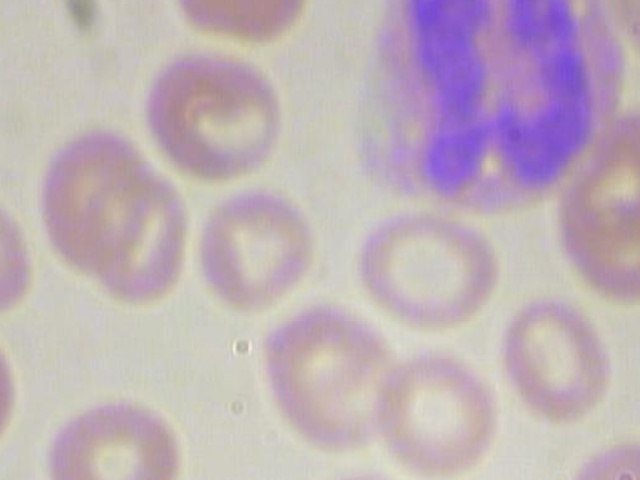RBC: (253, 297, 409, 458), (135, 46, 305, 187), (339, 207, 501, 331), (364, 343, 501, 479), (185, 179, 322, 315), (496, 290, 620, 432), (71, 168, 198, 306), (26, 401, 197, 480), (170, 0, 307, 42), (556, 434, 640, 480), (610, 0, 640, 62)
WBC: (329, 0, 629, 224)
